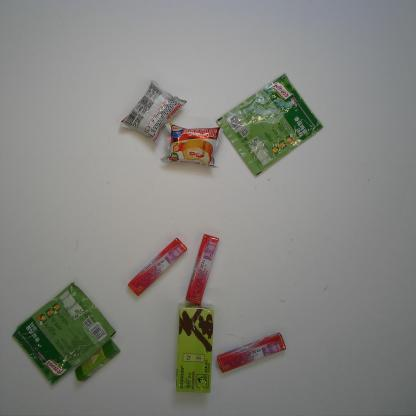Candy: (127, 236, 189, 298), (213, 330, 289, 374), (184, 232, 219, 306)
Dessert: (117, 78, 188, 144), (158, 121, 223, 171)
Instant Drink: (172, 304, 218, 395)
Seasoner: (215, 71, 323, 178), (11, 282, 116, 387)
Stationery: (74, 338, 123, 382)
